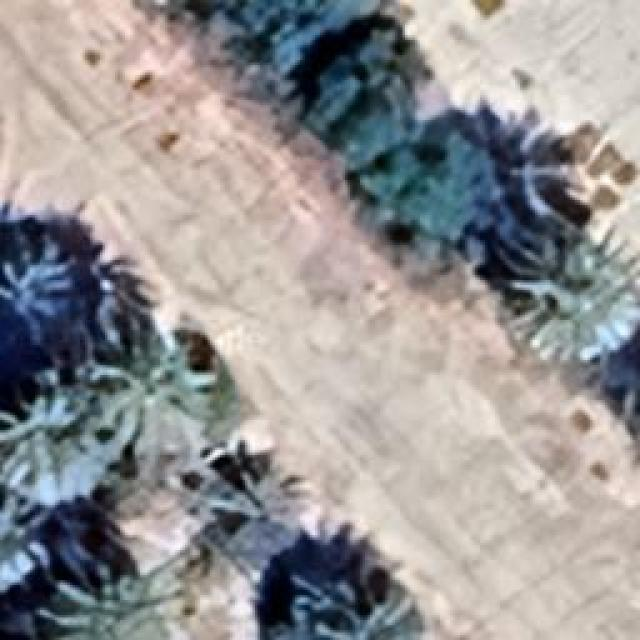PalmTree: (504, 237, 640, 361), (266, 533, 420, 639), (29, 544, 192, 638), (0, 380, 112, 493), (0, 230, 102, 338), (100, 334, 202, 442), (0, 486, 46, 582)
